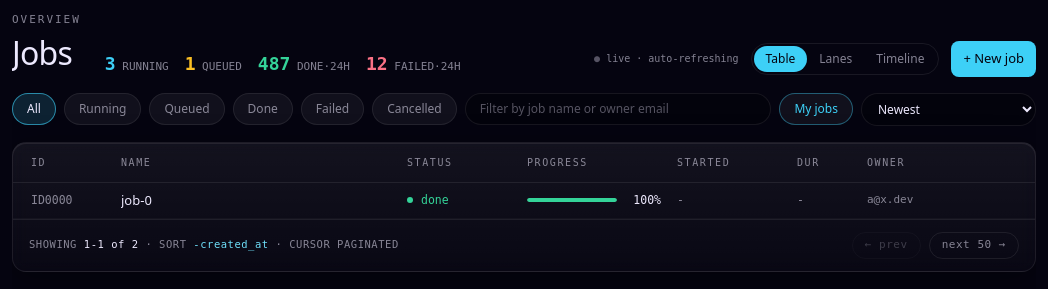
Test: changing the sort after paging forward resets the cursor
The width and height of the screenshot is (1048, 289).
Check: the link "job-0" is shown, box [121,190,152,210]
Click the button "next 50 →" at [974, 245], box [929,232,1019,258]
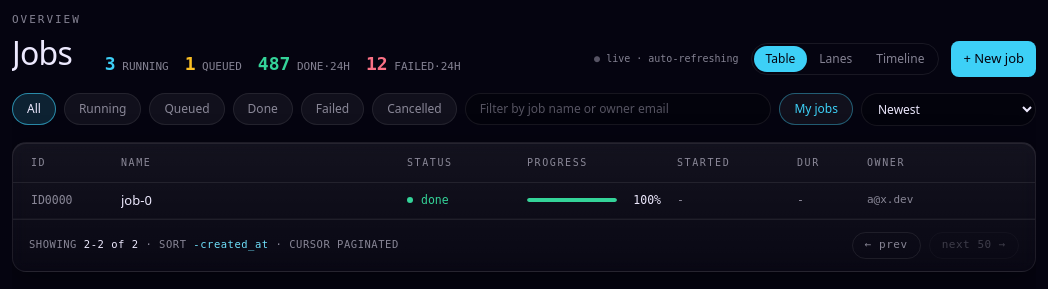
Select "Name A→Z" in the dropdown named "Sort jobs" at [948, 109], box [861,92,1036,126]
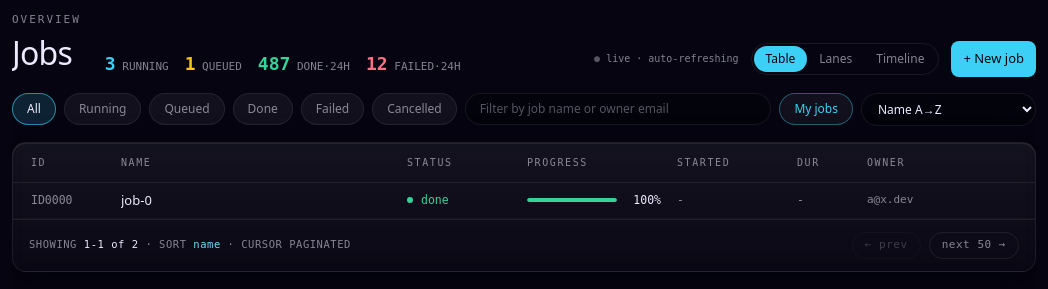
Check: the text "name" is shown, box [193,238,221,250]
